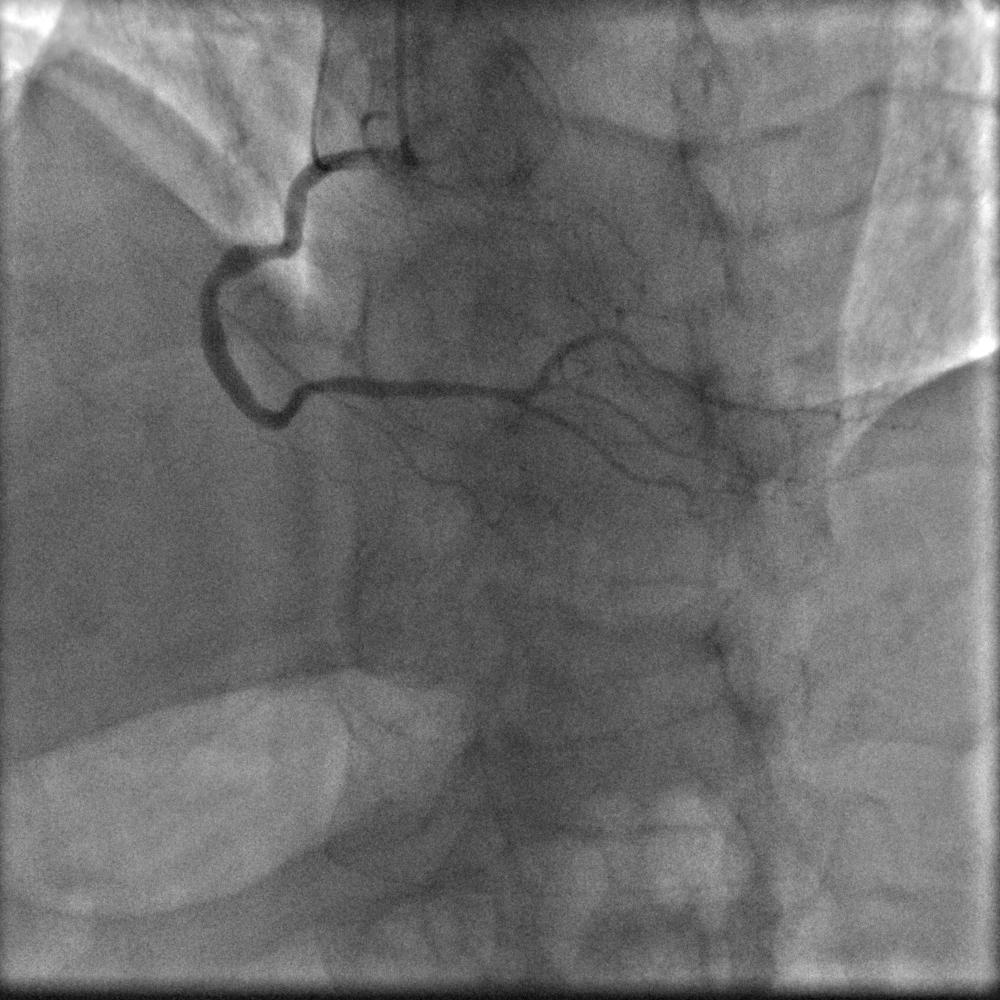Stenosis: (203, 256, 229, 300)
